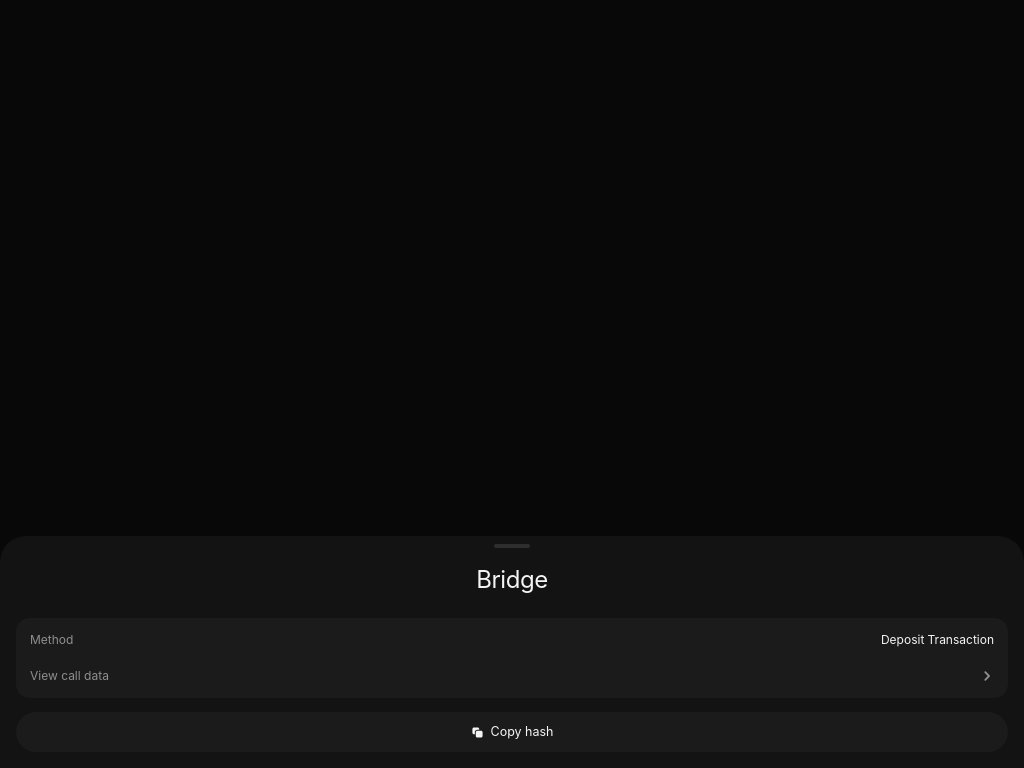
Test: call data page › opens from the View call data row and goes back with the Back button and Escape
The image size is (1024, 768).
Step 1. Click the button "View call data" → [69, 676], box [30,658,994,694]
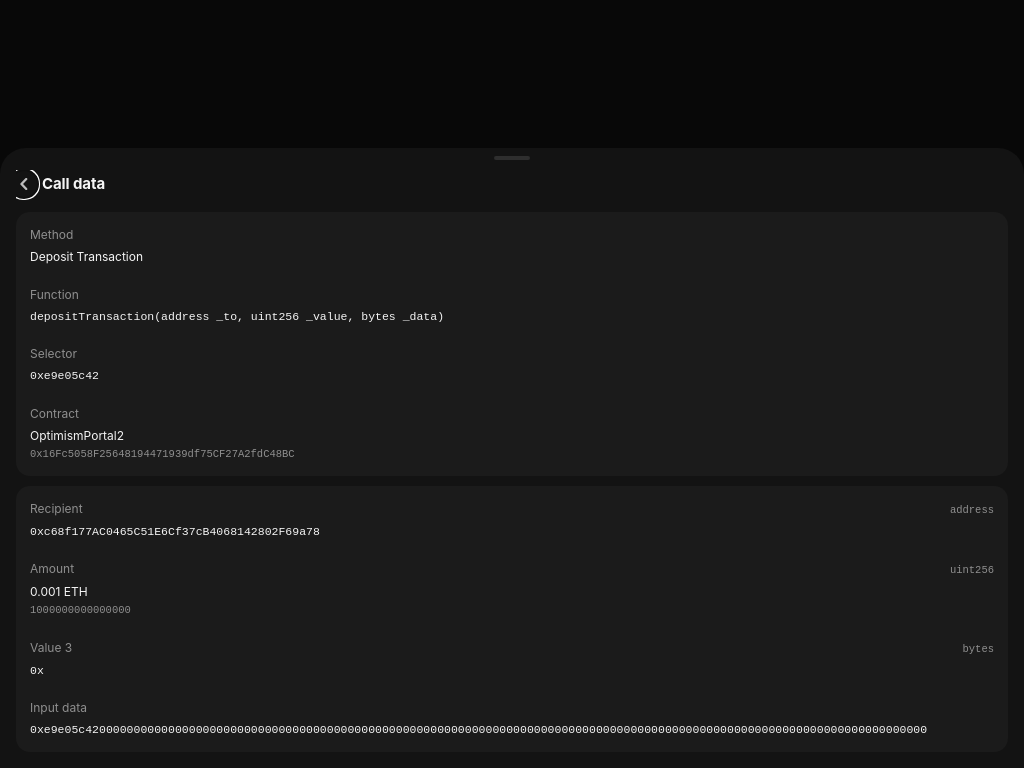
Expected: the text "Call data" is shown, [42,173,105,195]
Now the button "Copy hash" is gone
Step 2. Click the button named "Back" → [24, 184], box [10,170,38,198]
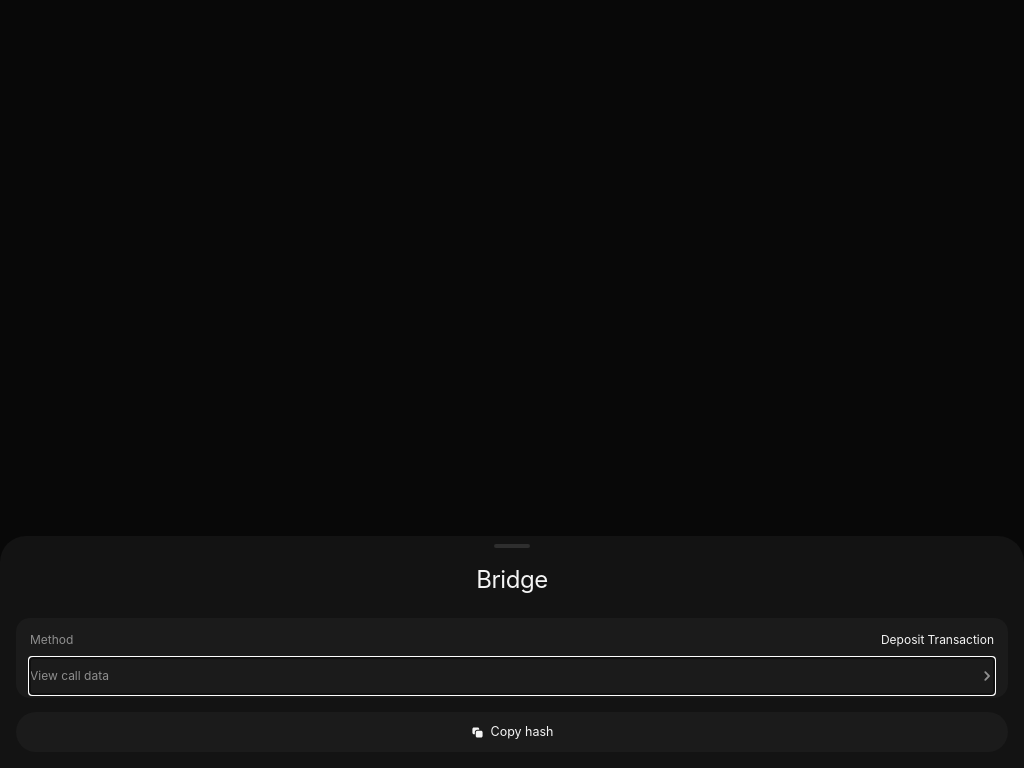
Now the text "Copy hash" is shown, box [490,723,554,741]
Step 3. Click the button "View call data" → [69, 676], box [30,658,994,694]
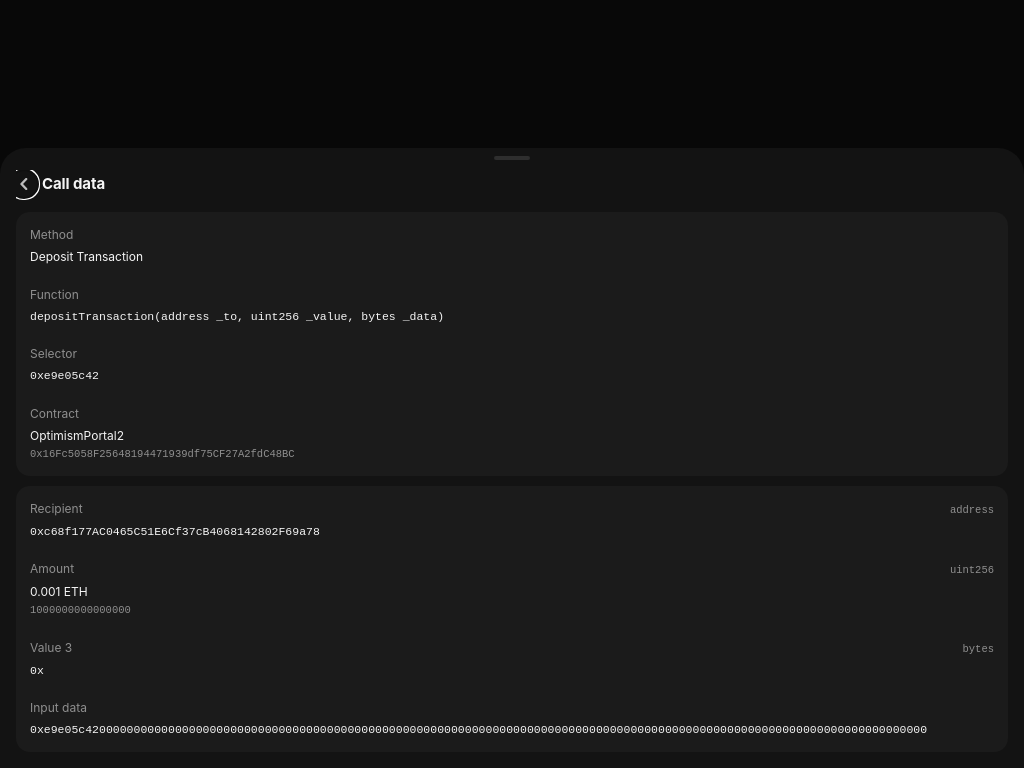
Step 4. Press Escape in the button named "Back", box [10,170,38,198]
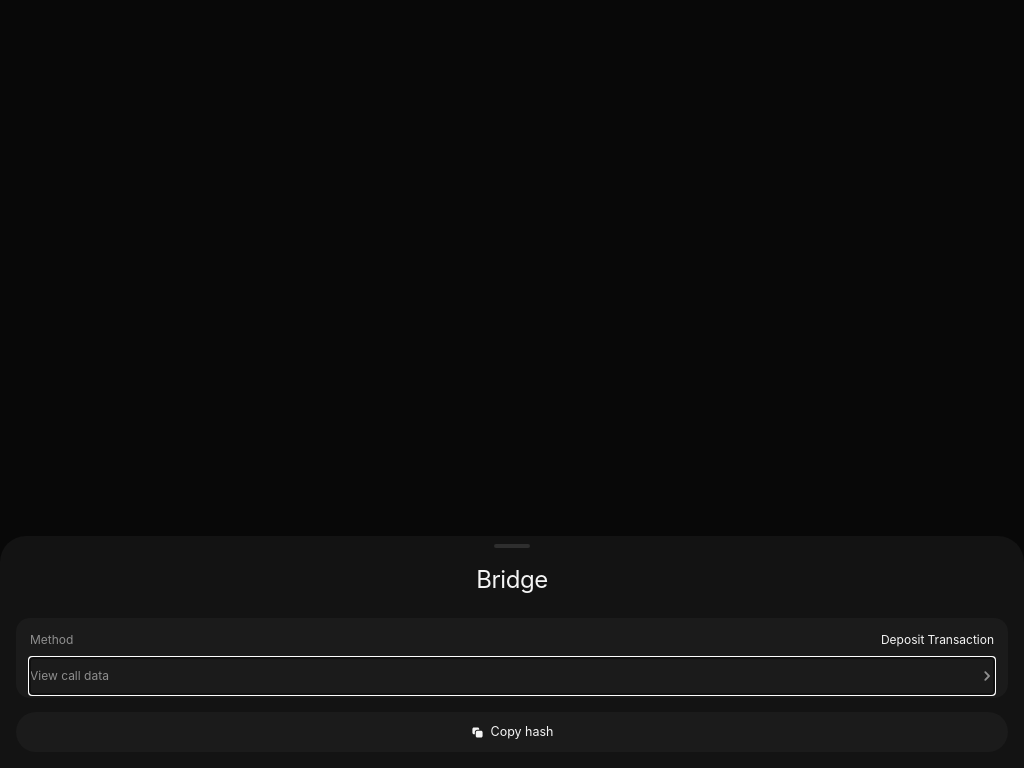
Now the text "Copy hash" is shown, box [490,723,554,741]
Step 5. Click the button "View call data" → [69, 676], box [30,658,994,694]
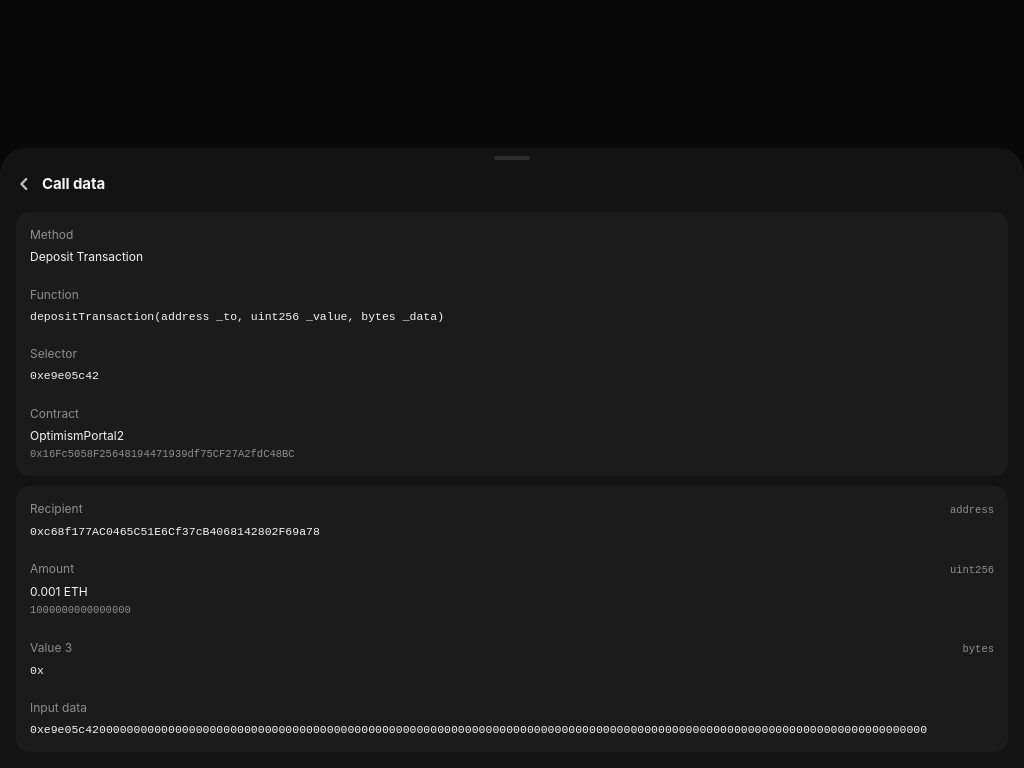
Step 6. Press Escape
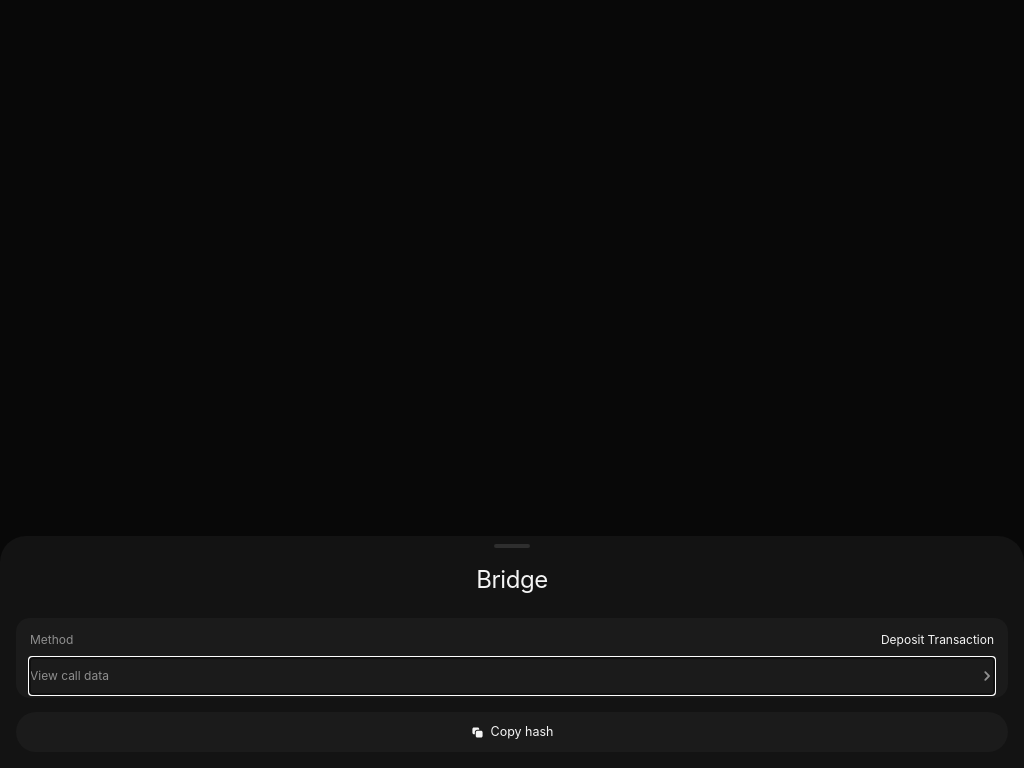
Now the text "Copy hash" is shown, box [490,723,554,741]
